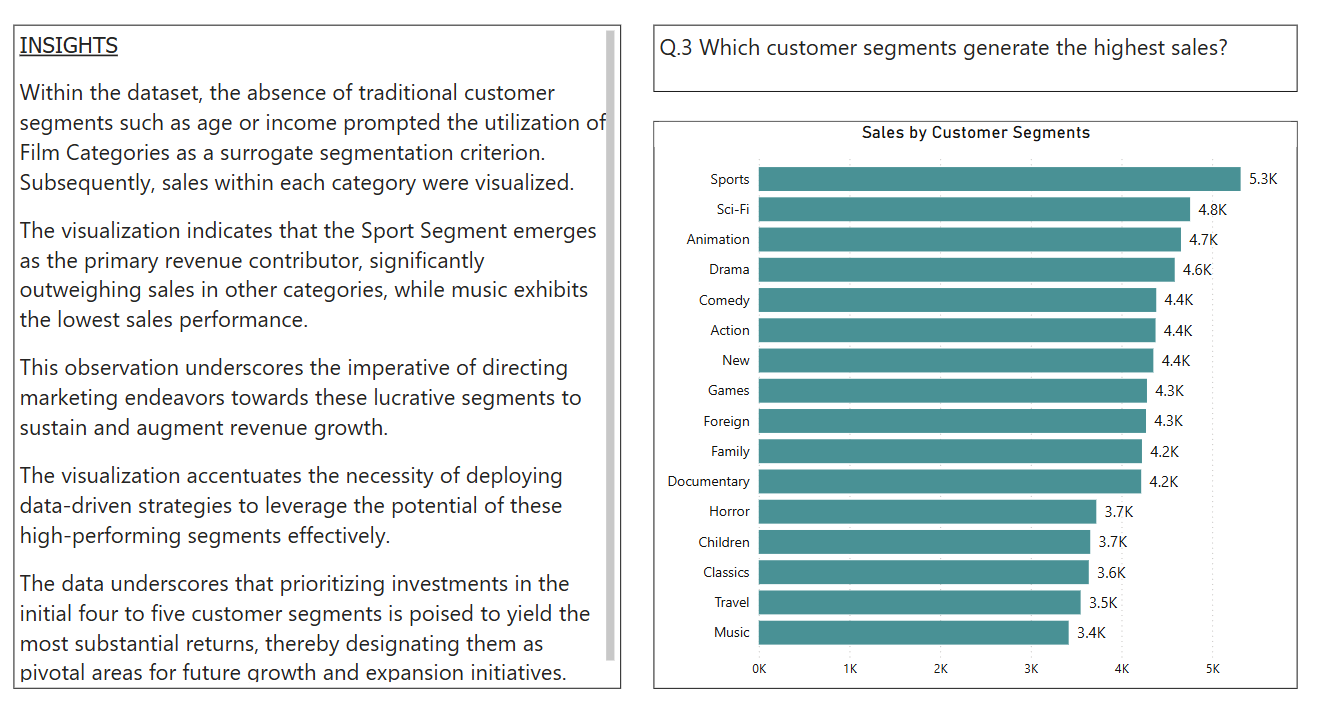

The page's visual inventory and layout, read from the dashboard file:
{"tool":"powerbi","page":{"name":"Q3","canvas":[1280,720],"ordinal":8},"visuals":[{"type":"textbox","box":[634.6,32.6,621.3,65.1],"z":0},{"type":"textbox","box":[16.9,32.6,586.3,640.6],"z":2000},{"type":"clusteredBarChart","fields":{"Category":["category.name"],"Y":["Sum(payment.amount)"]},"box":[634.6,125.5,621.3,547.7],"z":3000}]}

Visuals, with their boxes in screenshot pixels (x1, y1, x2, y2), scaled from the page's 1280x720 canvas onto the 1320x726 screenshot:
textbox: bbox=(654, 33, 1295, 99)
textbox: bbox=(17, 33, 622, 679)
clusteredBarChart - category.name x Sum(payment.amount): bbox=(654, 127, 1295, 679)
